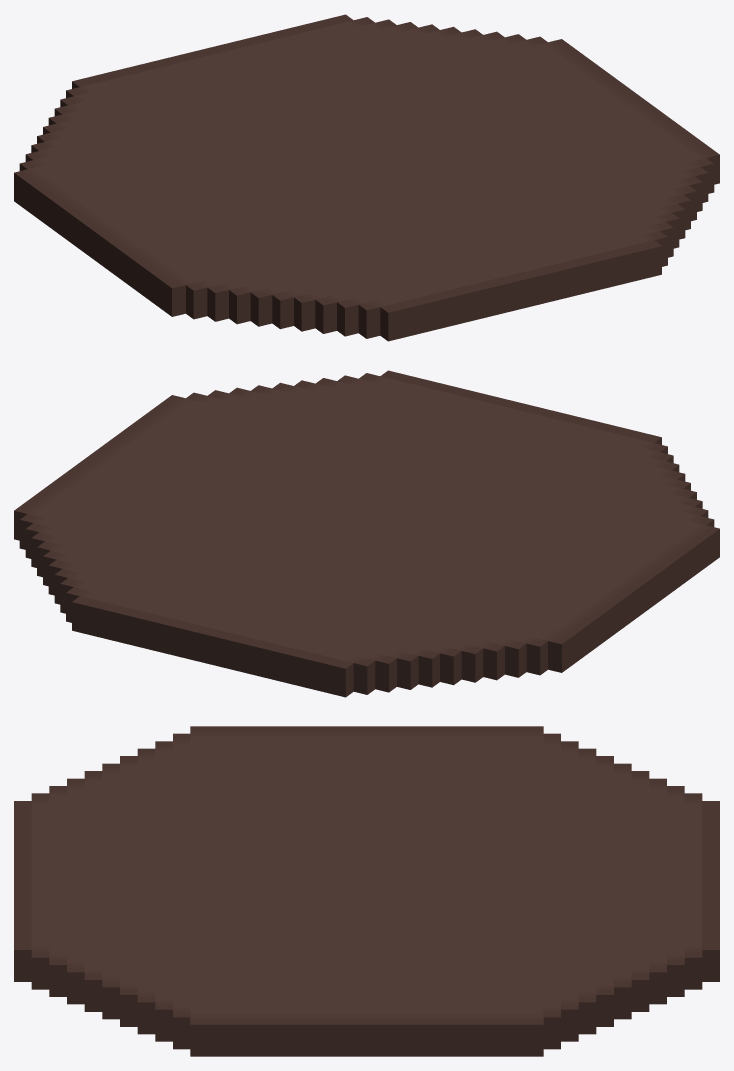
File: plankhex.fbx
The picture shows the model from 3 angles, top to bottom: view 1: azimuth 30°, elevation 25°; view 2: azimuth 150°, elevation 25°; view 3: azimuth 270°, elevation 25°; orthographic projection. The views are drawn at different scales.
Visible parts, largest first — view 1: plankhex; view 2: plankhex; view 3: plankhex.
Part boxes in pixels (<box>): plankhex: <box>14,14,719,341</box>; plankhex: <box>14,370,719,697</box>; plankhex: <box>14,726,719,1056</box>.
Bounding box in the file's own units: 40 × 2 × 40.
1 material, 1 textured.
